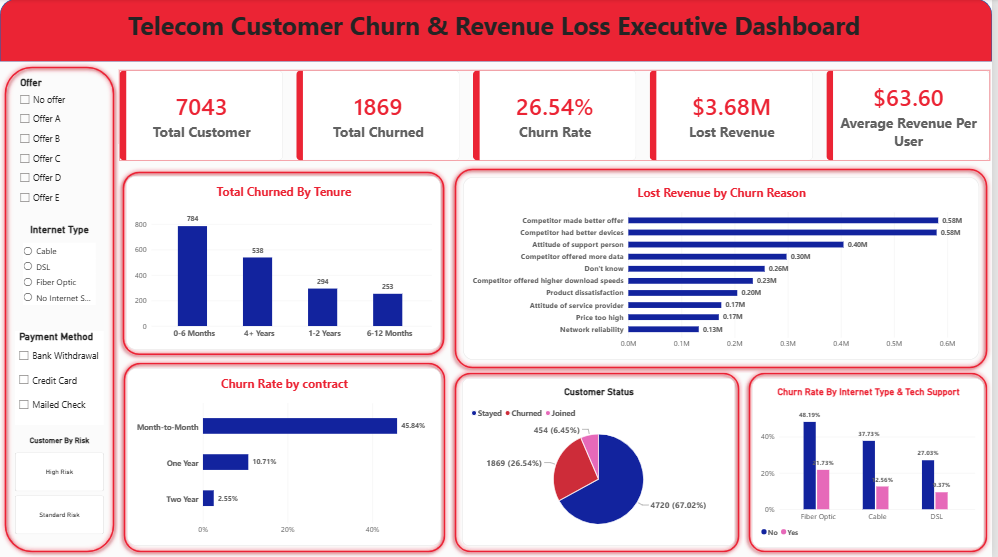

The dashboard page shown, as its layout file describes it:
{"tool":"powerbi","page":{"name":"Page 1","canvas":[1920,1080],"ordinal":0},"visuals":[{"type":"cardVisual","fields":{"Data":["Measure Table.Total Customer","Measure Table.Total Churned","Measure Table.Churn Rate","Measure Table.Lost Revenue","Measure Table.Average Revenue Per User"]},"box":[231.1,137.3,1688.9,176.2],"z":0},{"type":"shape","box":[871,319.6,1049,404.5],"z":0,"group":"g1"},{"type":"shape","box":[228.4,325.2,640.8,373],"z":0,"group":"g2"},{"type":"shape","box":[230.3,694.8,640.6,385.2],"z":0,"group":"g3"},{"type":"shape","box":[0,121.9,230.3,958.1],"z":1000},{"type":"clusteredColumnChart","title":"Total Churned By Tenure","fields":{"Category":["telecom_churn_clean.tenure_group"],"Y":["Measure Table.Total Churned"]},"box":[244.4,343.5,608.7,336.4],"z":1000,"group":"g2"},{"type":"clusteredBarChart","title":"Lost Revenue by Churn Reason","fields":{"Category":["telecom_churn_clean.churn_reason"],"Y":["Measure Table.Lost Revenue"]},"box":[896.2,344.8,998.7,354.2],"z":1000,"group":"g1"},{"type":"clusteredBarChart","fields":{"Category":["telecom_churn_clean.contract"],"Y":["Measure Table.Churn Rate"]},"box":[245.8,714.8,607.6,343.7],"z":1000,"group":"g3"},{"type":"advancedSlicerVisual","title":"Customer By Risk","fields":{"Values":["telecom_churn_clean.is_high_risk"]},"box":[29,845.8,172.3,191.6],"z":2000},{"type":"slicer","title":"Offer","fields":{"Values":["telecom_churn_clean.offer"]},"box":[31,151,170.3,269],"z":3000},{"type":"listSlicer","title":"Internet Type","fields":{"Values":["telecom_churn_clean.internet_type"]},"box":[29,420,172.3,203.2],"z":4000},{"type":"slicer","fields":{"Values":["telecom_churn_clean.payment_method"]},"box":[29,642.6,172.3,181.9],"z":5000},{"type":"shape","box":[0,0,1920,121.3],"z":6000},{"type":"textbox","box":[247.2,18.3,1473.8,84.7],"z":7000},{"type":"shape","box":[871,714.2,569,365.8],"z":8000},{"type":"pieChart","title":"Customer Status","fields":{"Category":["telecom_churn_clean.customer_value_tier","telecom_churn_clean.customer_status"],"Y":["Measure Table.Total Customer"]},"box":[894.2,733.5,528.4,325.2],"z":9000},{"type":"group","id":"g1","title":"Group 1","box":[871,319.6,1049,404.5],"z":10000},{"type":"group","id":"g2","title":"Group 2","box":[228.4,325.2,640.6,373.5],"z":11000},{"type":"group","id":"g3","title":"Group 3","box":[230.3,694.8,640.6,385.2],"z":12000},{"type":"shape","box":[1440,714.2,480,365.8],"z":13000},{"type":"clusteredColumnChart","title":"Churn Rate By Internet Type & Tech Support","fields":{"Category":["telecom_churn_clean.internet_type"],"Series":["telecom_churn_clean.premium_tech_support"],"Y":["Measure Table.Churn Rate"]},"box":[1455.5,733.5,449,329],"z":14000}]}

Visuals, with their boxes in screenshot pixels (x1, y1, x2, y2), scaled from the page's 1920x1080 canvas onto the 998x557 screenshot:
cardVisual - Measure Table.Total Customer x Measure Table.Total Churned: {"left": 120, "top": 71, "right": 997, "bottom": 162}
shape: {"left": 453, "top": 165, "right": 997, "bottom": 373}
shape: {"left": 119, "top": 168, "right": 452, "bottom": 360}
shape: {"left": 120, "top": 358, "right": 453, "bottom": 556}
shape: {"left": 0, "top": 63, "right": 120, "bottom": 556}
"Total Churned By Tenure" clusteredColumnChart: {"left": 127, "top": 177, "right": 443, "bottom": 351}
"Lost Revenue by Churn Reason" clusteredBarChart: {"left": 466, "top": 178, "right": 985, "bottom": 361}
clusteredBarChart - telecom_churn_clean.contract x Measure Table.Churn Rate: {"left": 128, "top": 369, "right": 444, "bottom": 546}
"Customer By Risk" advancedSlicerVisual: {"left": 15, "top": 436, "right": 105, "bottom": 535}
"Offer" slicer: {"left": 16, "top": 78, "right": 105, "bottom": 217}
"Internet Type" listSlicer: {"left": 15, "top": 217, "right": 105, "bottom": 321}
slicer - telecom_churn_clean.payment_method: {"left": 15, "top": 331, "right": 105, "bottom": 425}
shape: {"left": 0, "top": 0, "right": 997, "bottom": 63}
textbox: {"left": 128, "top": 9, "right": 895, "bottom": 53}
shape: {"left": 453, "top": 368, "right": 748, "bottom": 556}
"Customer Status" pieChart: {"left": 465, "top": 378, "right": 739, "bottom": 546}
"Group 1" group: {"left": 453, "top": 165, "right": 997, "bottom": 373}
"Group 2" group: {"left": 119, "top": 168, "right": 452, "bottom": 360}
"Group 3" group: {"left": 120, "top": 358, "right": 453, "bottom": 556}
shape: {"left": 748, "top": 368, "right": 997, "bottom": 556}
"Churn Rate By Internet Type & Tech Support" clusteredColumnChart: {"left": 757, "top": 378, "right": 990, "bottom": 548}
